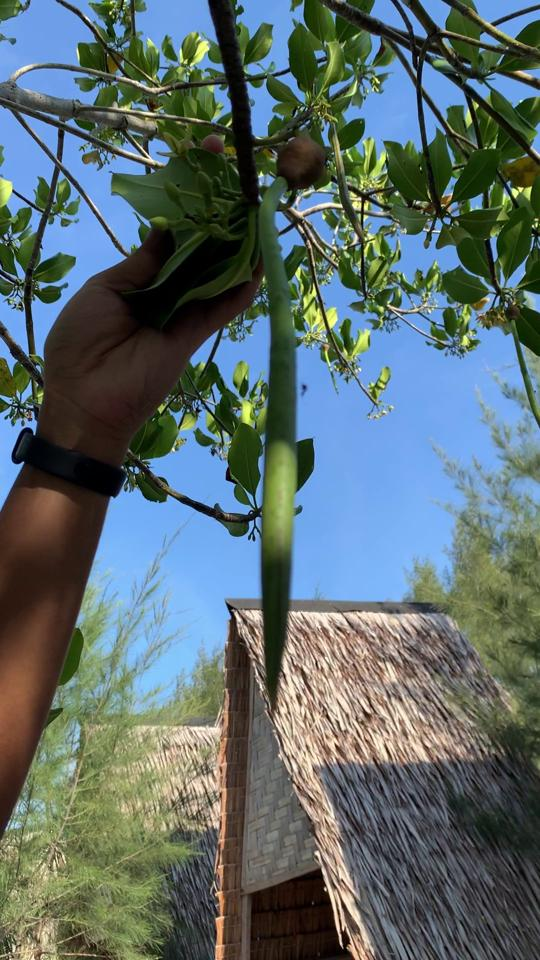mentah: (246, 118, 349, 726)
